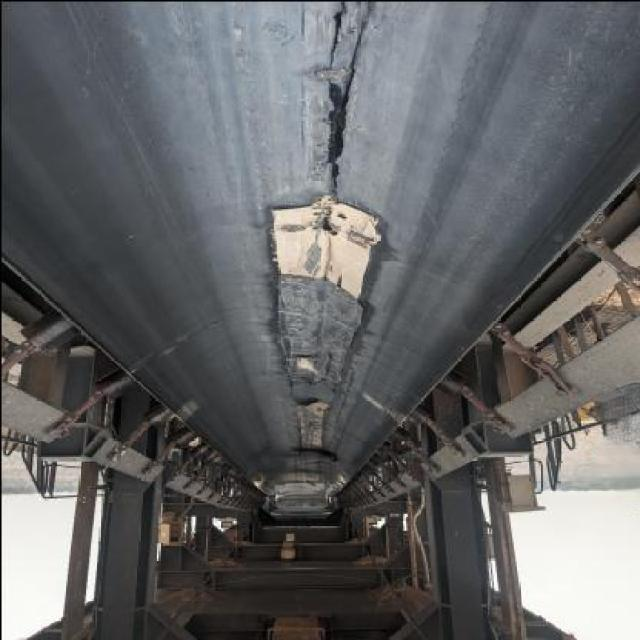Hole: (317, 216, 345, 239)
Tear: (315, 0, 377, 202)
